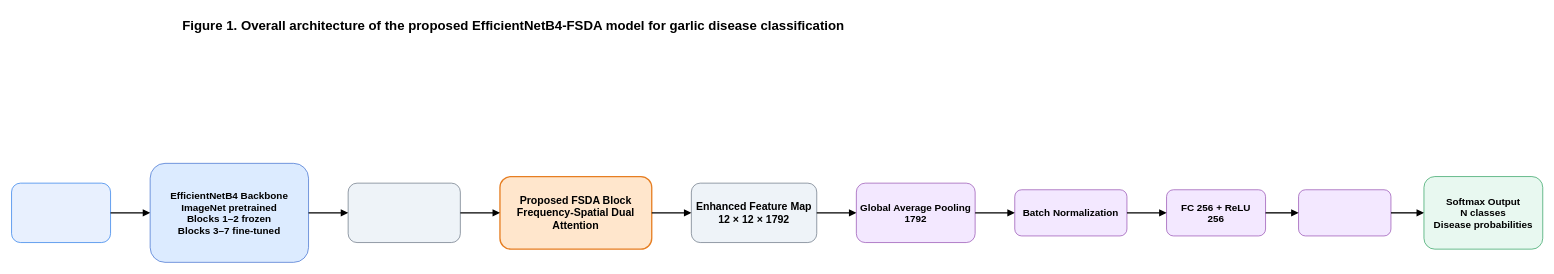
The diagram is 1554 pixels wide and 274 high, and some of its shapes have lost their labels. The shapes that lost their labels are listed below. From the top down, each one's centre as x and y in pixels, then its label:
At [61,212]: "Input Image 380 × 380 × 3".
At [403,212]: "Feature Map 12 × 12 × 1792".
At [1344,212]: "Dropout 0.5".
